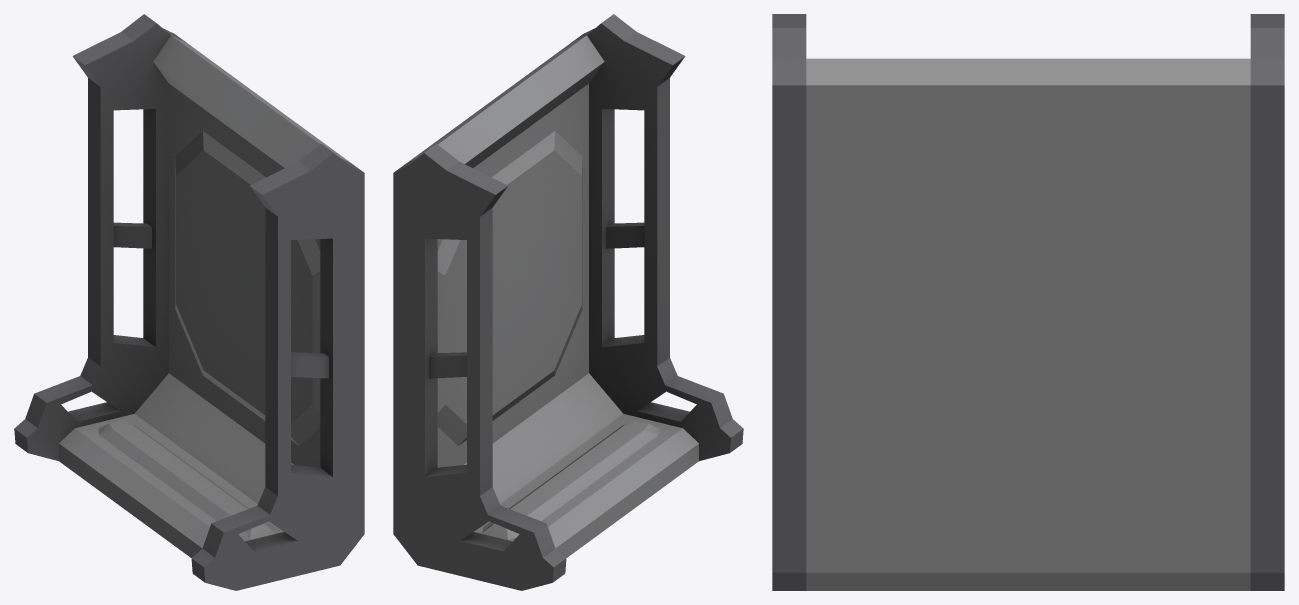
File: Wall 1.fbx
3 renders of one model, left to right at view 1: azimuth 30°, elevation 25°; view 2: azimuth 150°, elevation 25°; view 3: azimuth 270°, elevation 25°, orthographic. The views are drawn at different scales.
Parts seen in each view (by area): view 1: Wall Model - High Res02; view 2: Wall Model - High Res02; view 3: Wall Model - High Res02.
Boxes of the visible parts, left/top/right/bottom form: Wall Model - High Res02: left=14, top=14, right=364, bottom=590; Wall Model - High Res02: left=393, top=14, right=743, bottom=590; Wall Model - High Res02: left=772, top=14, right=1284, bottom=590.
Size of the model in its own units: 117 by 289 by 240.
